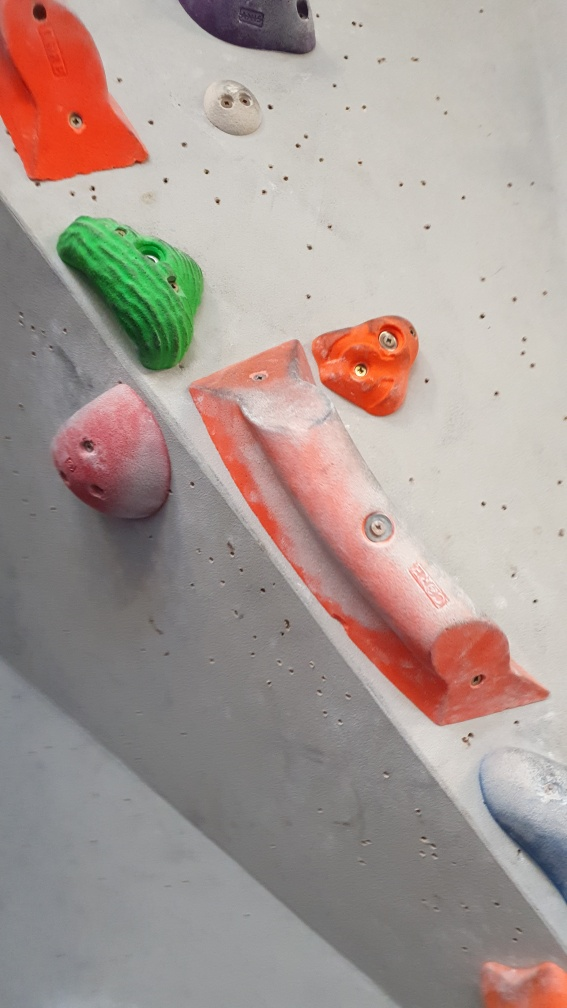Jug: (58, 213, 206, 372), (312, 313, 421, 419)
Pinch: (184, 336, 554, 725), (1, 1, 158, 184), (484, 747, 567, 907)
Sloper: (50, 385, 173, 530)
